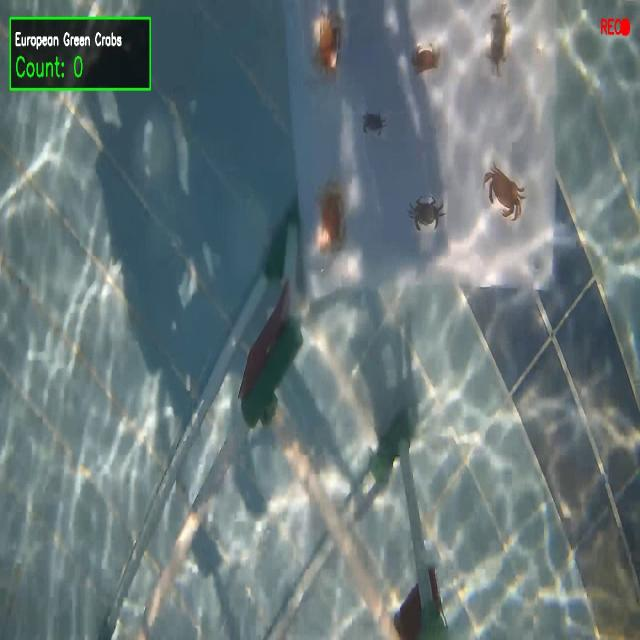European_Green_Crab: (486, 6, 515, 81), (406, 190, 446, 237), (360, 110, 385, 141)
